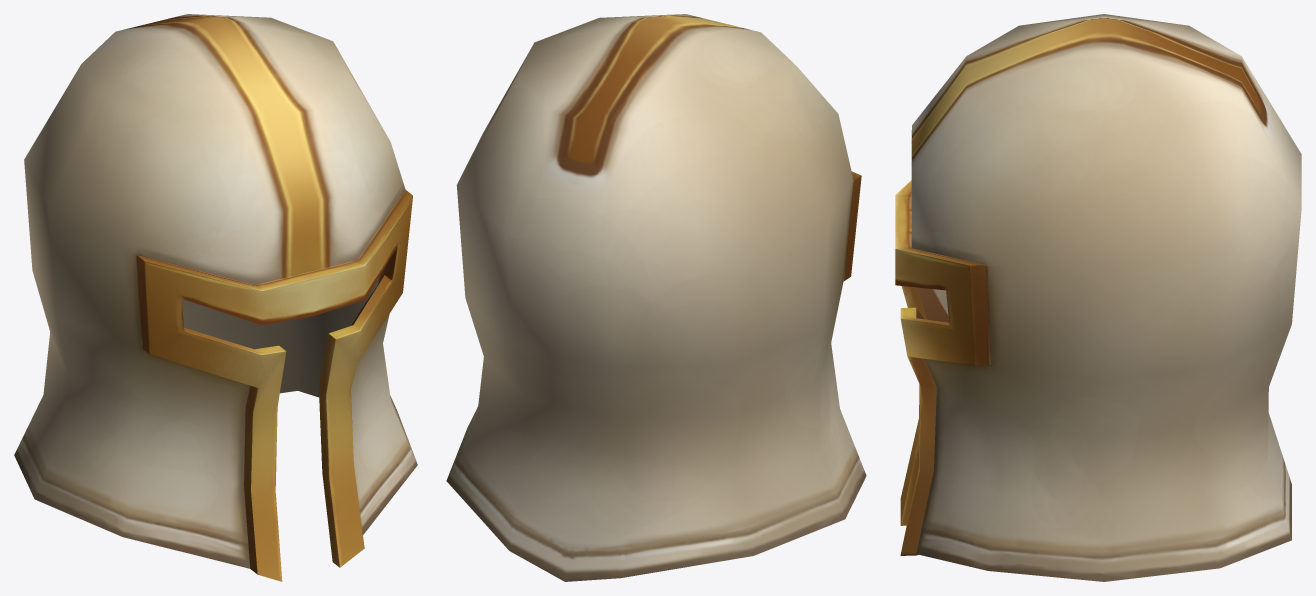
The model's file is helmet.FBX.
3 views of the same model, side by side, from view 1: azimuth 30°, elevation 25°; view 2: azimuth 150°, elevation 25°; view 3: azimuth 270°, elevation 25° (orthographic). The views are drawn at different scales.
Parts seen in each view (by area): view 1: helmet; view 2: helmet; view 3: helmet.
Boxes of the visible parts, x1=… form: helmet: x1=14, y1=14, x2=417, y2=581; helmet: x1=446, y1=14, x2=866, y2=581; helmet: x1=895, y1=14, x2=1301, y2=581.
Size of the model in its own units: 33.53 by 43.1 by 30.42.
